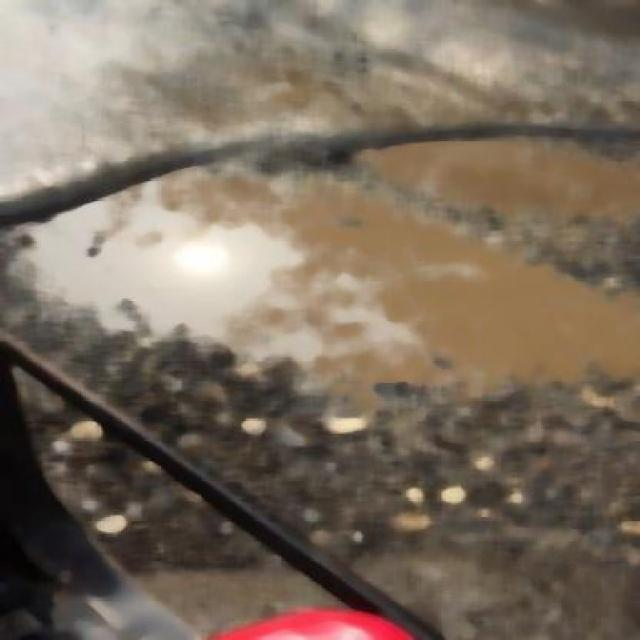Pothole: (1, 175, 639, 374)
